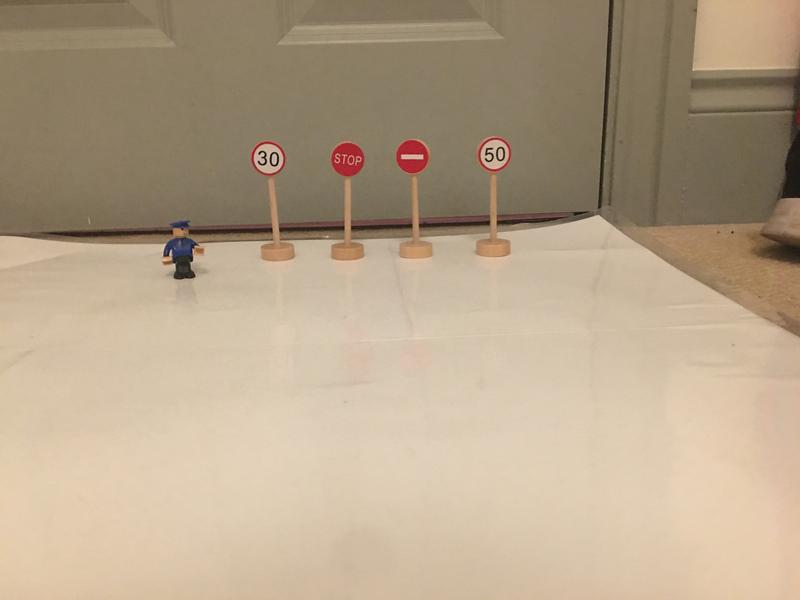Traffic_Sign_30: (251, 140, 285, 176)
Traffic_Sign_50: (477, 136, 512, 171)
Traffic_Sign_No_Entry: (396, 139, 429, 174)
Traffic_Sign_Stop: (331, 142, 364, 176)
person: (161, 221, 206, 282)
